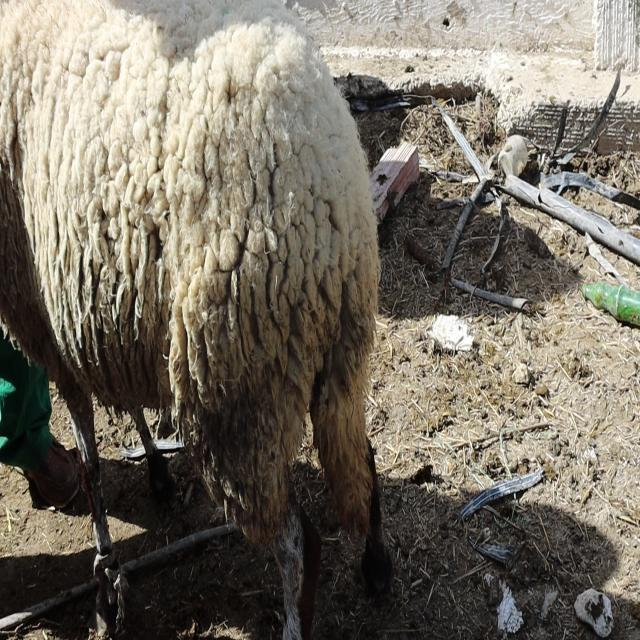Score_3: (0, 0, 392, 639)
